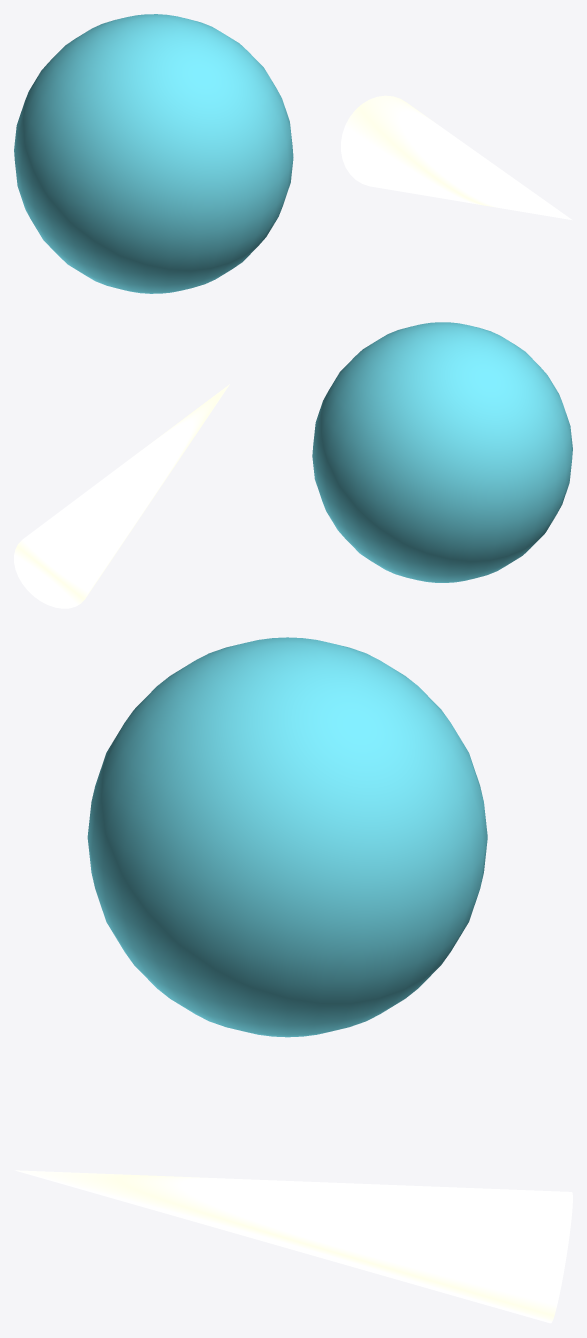
Rendered from AstraVajra.fbx.
The picture shows the model from 3 angles, top to bottom: view 1: azimuth 30°, elevation 25°; view 2: azimuth 150°, elevation 25°; view 3: azimuth 270°, elevation 25°; orthographic projection. The views are drawn at different scales.
Parts seen in each view (by area): view 1: AstraVajra; view 2: AstraVajra; view 3: AstraVajra.
Boxes of the visible parts, left/top/right/bottom form: AstraVajra: left=14, top=14, right=572, bottom=293; AstraVajra: left=14, top=322, right=572, bottom=608; AstraVajra: left=15, top=637, right=572, bottom=1323.
Bounding box in the file's own units: 0.72 × 0.4325 × 0.5028.
